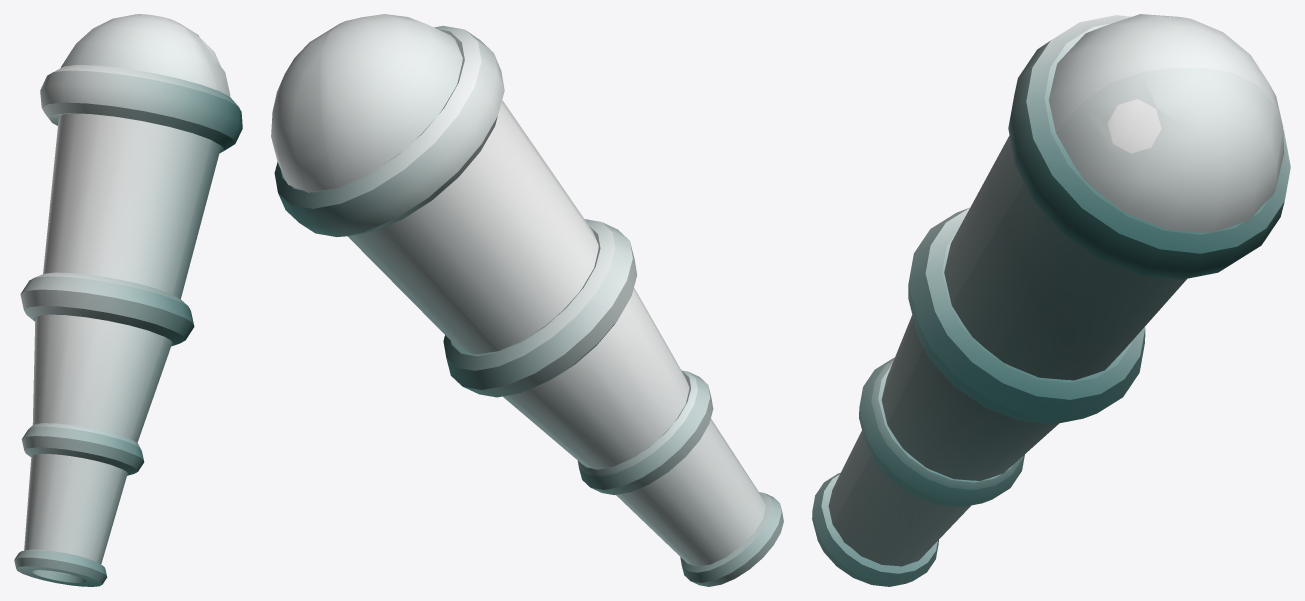
The model's file is Knowledge_Telescope.fbx.
3 views of the same model, side by side, from view 1: azimuth 30°, elevation 25°; view 2: azimuth 150°, elevation 25°; view 3: azimuth 270°, elevation 25° (orthographic). The views are drawn at different scales.
Visible parts, largest first — view 1: Knowledge_Telescope; view 2: Knowledge_Telescope; view 3: Knowledge_Telescope.
Part boxes in pixels (x1,y1,x2,y2): Knowledge_Telescope: (14,14,242,586); Knowledge_Telescope: (271,14,783,586); Knowledge_Telescope: (812,14,1290,586).
Bounding box in the file's own units: 14.95 × 22.29 × 14.45.
